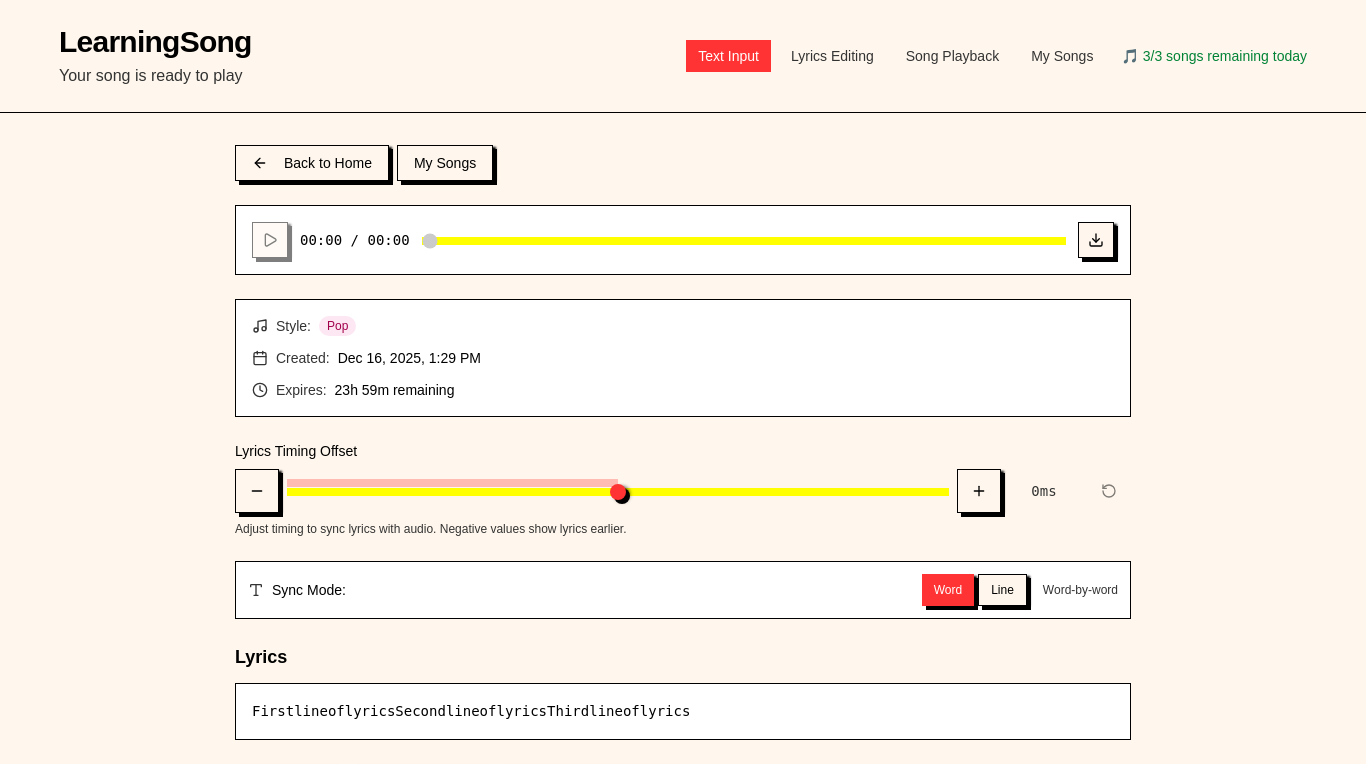
Test: Line-Level Sync Integration Tests › switches between word and line sync modes
Expected: the button with aria-label "Switch to word-level" is shown, [922,574,974,606]
# Click line mode button
Click the button with aria-label "Switch to line-level": (1003, 590) [978,574,1027,606]
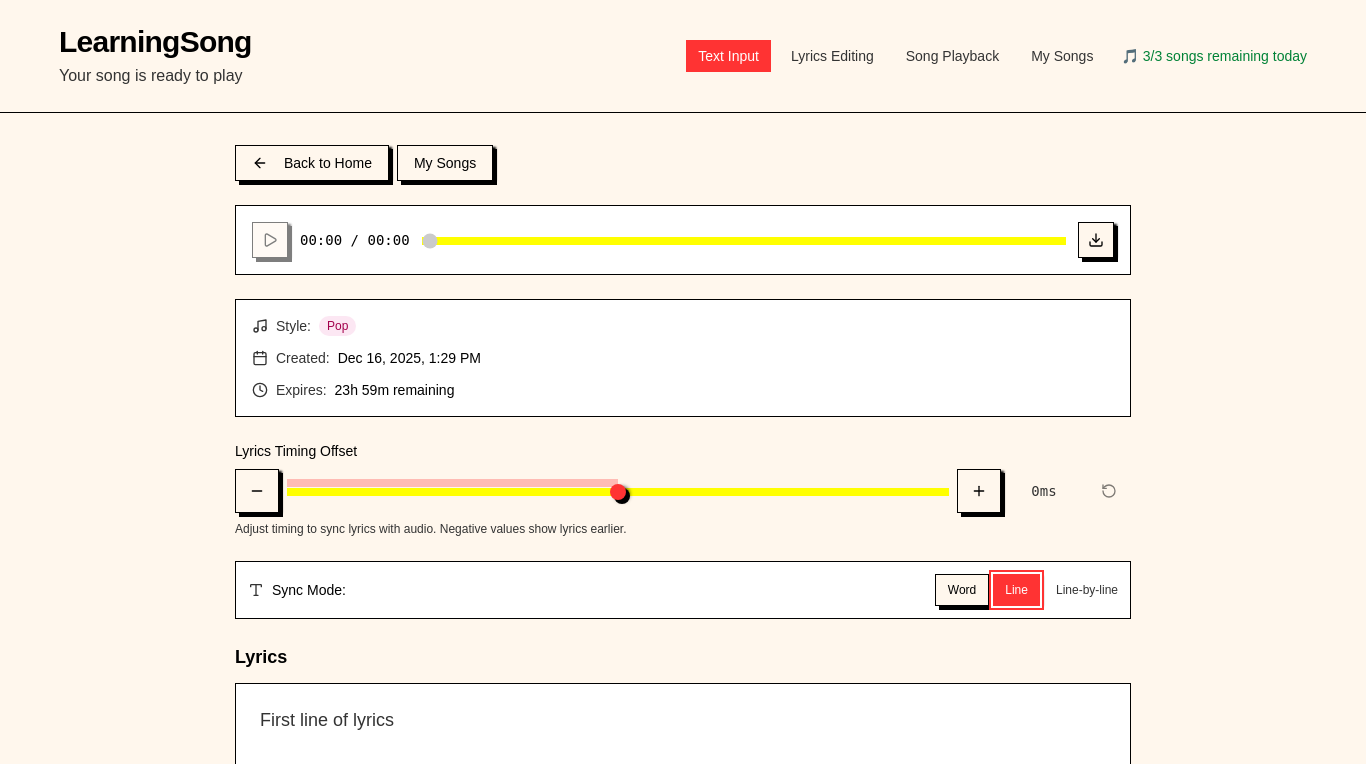
Expected: the text "Line-by-line" is shown, [1056,582,1118,598]
